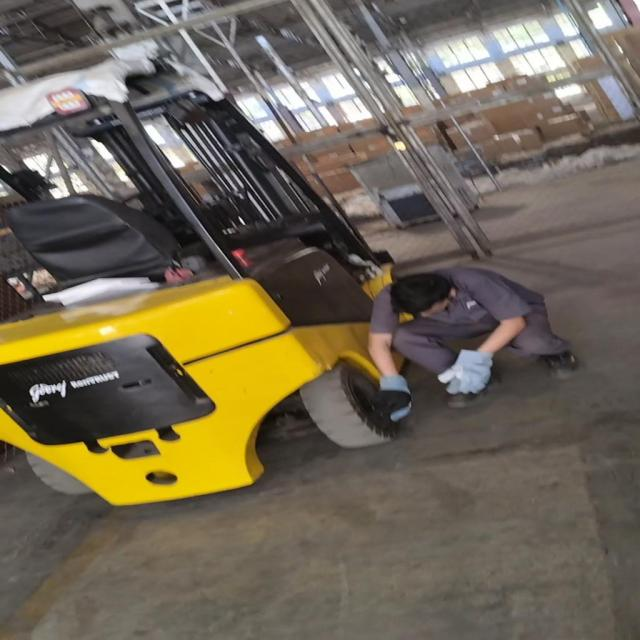Gloves-Detection: (438, 343, 494, 400), (372, 371, 410, 422)
